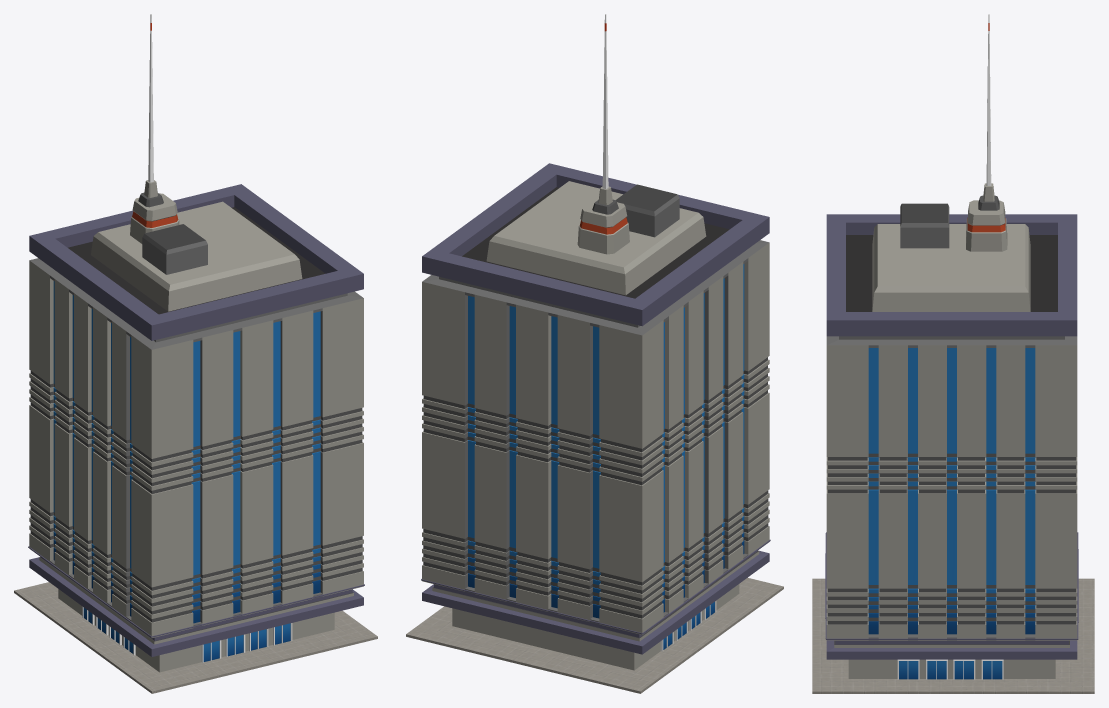
File: Skyscraper_04.fbx
3 renders of one model, left to right at view 1: azimuth 30°, elevation 25°; view 2: azimuth 150°, elevation 25°; view 3: azimuth 270°, elevation 25°, orthographic. The views are drawn at different scales.
Parts seen in each view (by area): view 1: Skyscraper_04; view 2: Skyscraper_04; view 3: Skyscraper_04.
Part boxes in pixels (box(x1,y1,x2,y2)): Skyscraper_04: box(14, 14, 377, 693); Skyscraper_04: box(406, 14, 783, 693); Skyscraper_04: box(812, 14, 1094, 693).
Size of the model in its own units: 5100 by 12854 by 5400.
